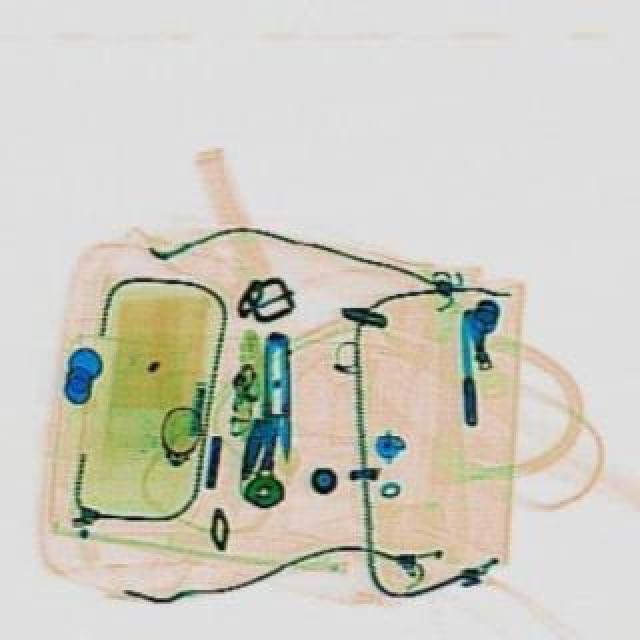pliers: (264, 334, 300, 468)
